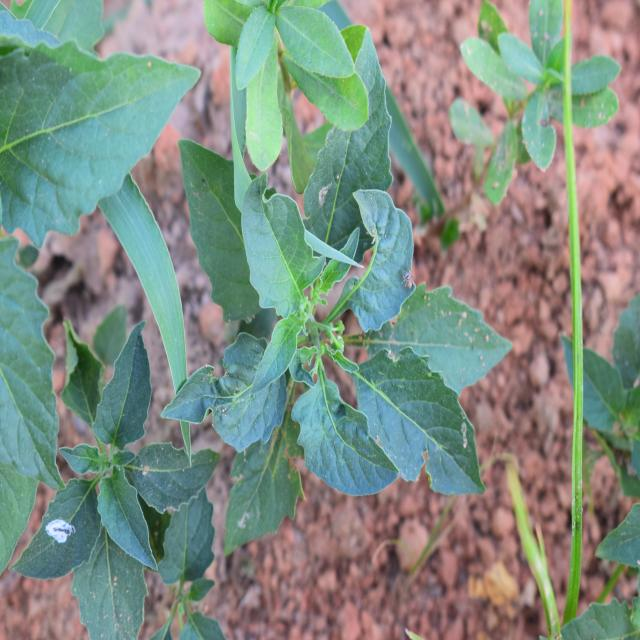Black_nightshade: (207, 141, 488, 525), (35, 338, 215, 618)
